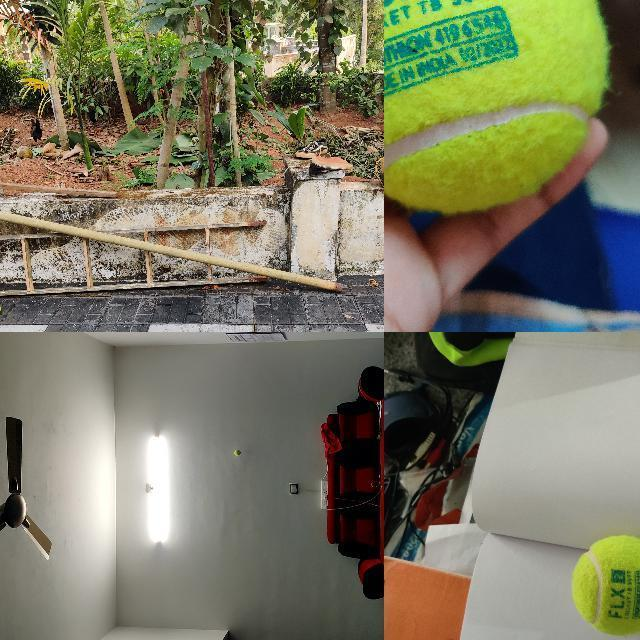tennis-ball: (384, 0, 607, 209), (571, 535, 639, 637), (234, 450, 241, 457)
